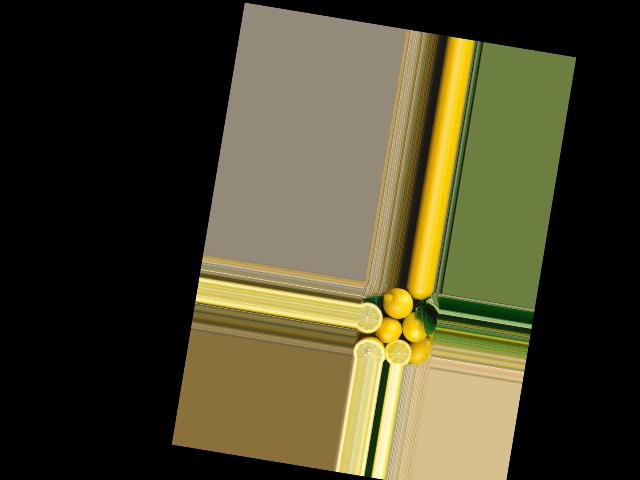lemon: (406, 334, 433, 367)
